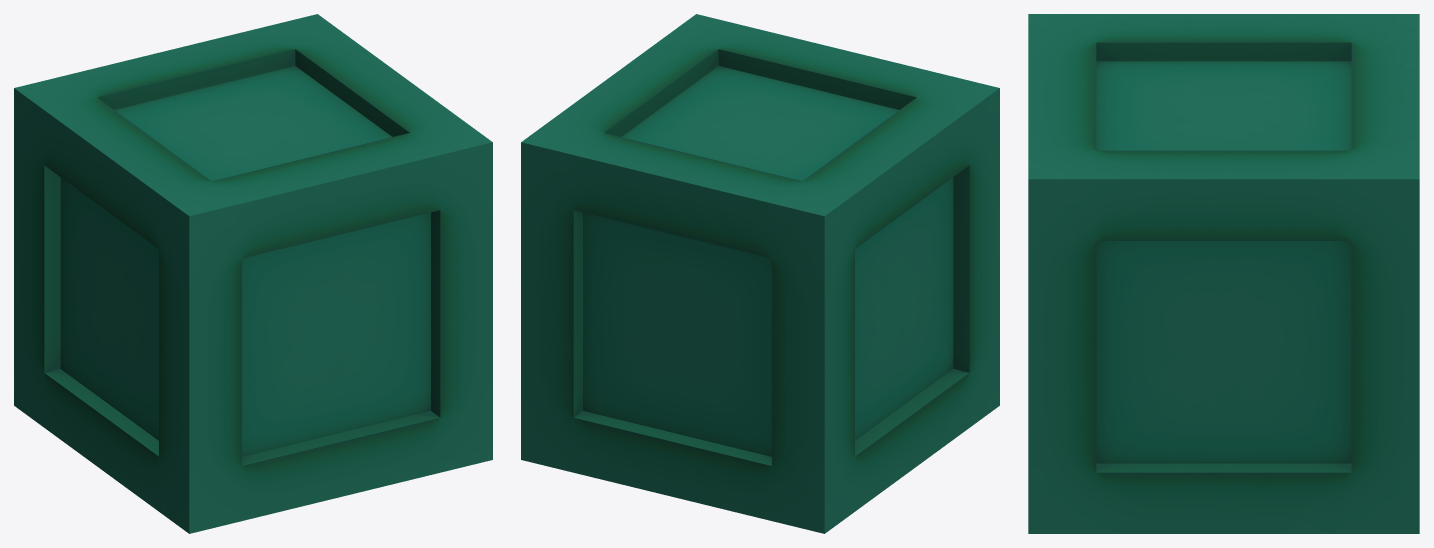
The picture shows the model from 3 angles, left to right: view 1: azimuth 30°, elevation 25°; view 2: azimuth 150°, elevation 25°; view 3: azimuth 270°, elevation 25°; orthographic projection. The views are drawn at different scales.
Parts seen in each view (by area): view 1: cube08_geo; view 2: cube08_geo; view 3: cube08_geo.
Boxes of the visible parts, x1=… form: cube08_geo: x1=14, y1=14, x2=492, y2=533; cube08_geo: x1=521, y1=14, x2=999, y2=533; cube08_geo: x1=1028, y1=14, x2=1419, y2=533.
Size of the model in its own units: 100 by 100 by 100.
Materials: 1 (1 with a texture image).
